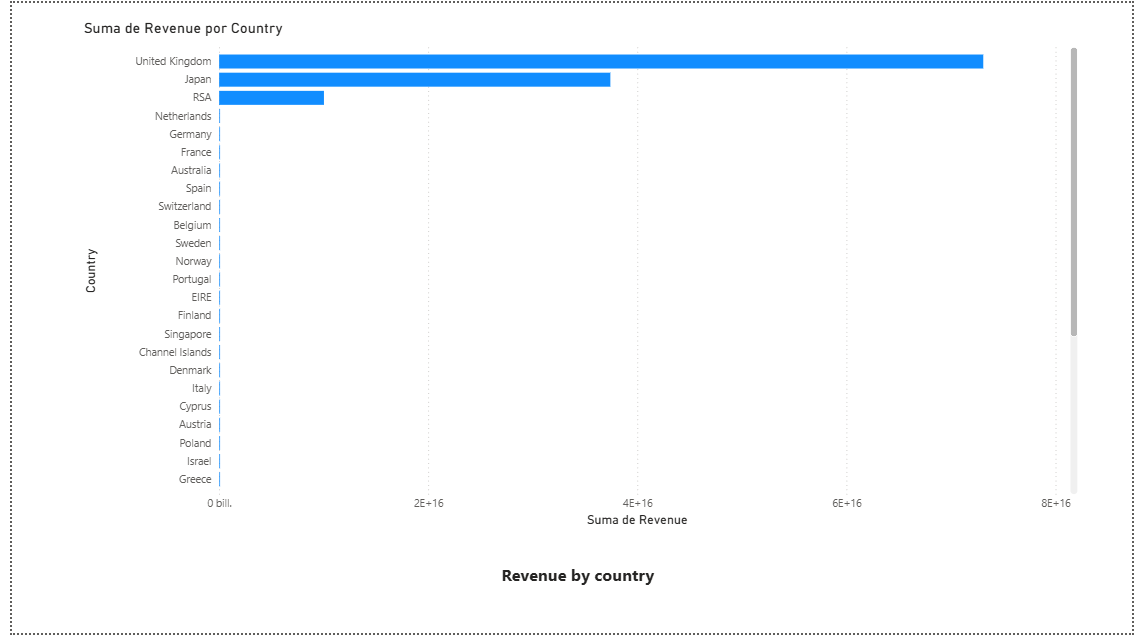

The dashboard page shown, as its layout file describes it:
{"tool":"powerbi","page":{"name":"Ventas/pais","canvas":[1280,720],"ordinal":1},"visuals":[{"type":"barChart","fields":{"Category":["sales_by_country.Country"],"Y":["Sum(sales_by_country.Revenue)"]},"box":[77.1,18.6,1145.7,585.7],"z":0},{"type":"textbox","box":[554.3,635.7,208.6,44.3],"z":1}]}

Visuals, with their boxes in screenshot pixels (x1, y1, x2, y2), scaled from the page's 1280x720 canvas onto the 1142x641 screenshot:
barChart - sales_by_country.Country x Sum(sales_by_country.Revenue): left=69, top=17, right=1091, bottom=538
textbox: left=495, top=566, right=681, bottom=605
